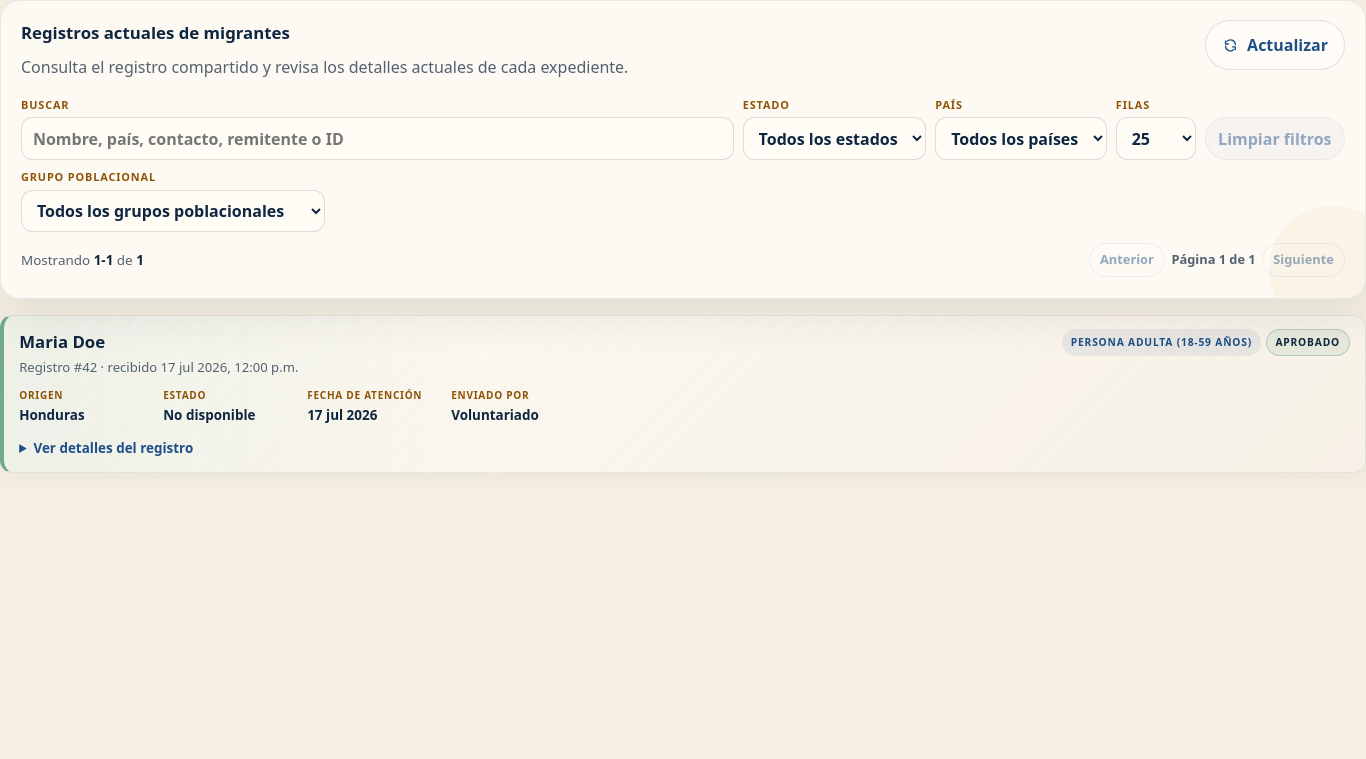
Test: MigrantRegistrationsPage › cancels the registry PDF challenge when the passkey prompt is dismissed
The width and height of the screenshot is (1366, 759).
Click the heading "Ver detalles del registro" at (106, 448), box x1=19 y1=438 x2=193 y2=458
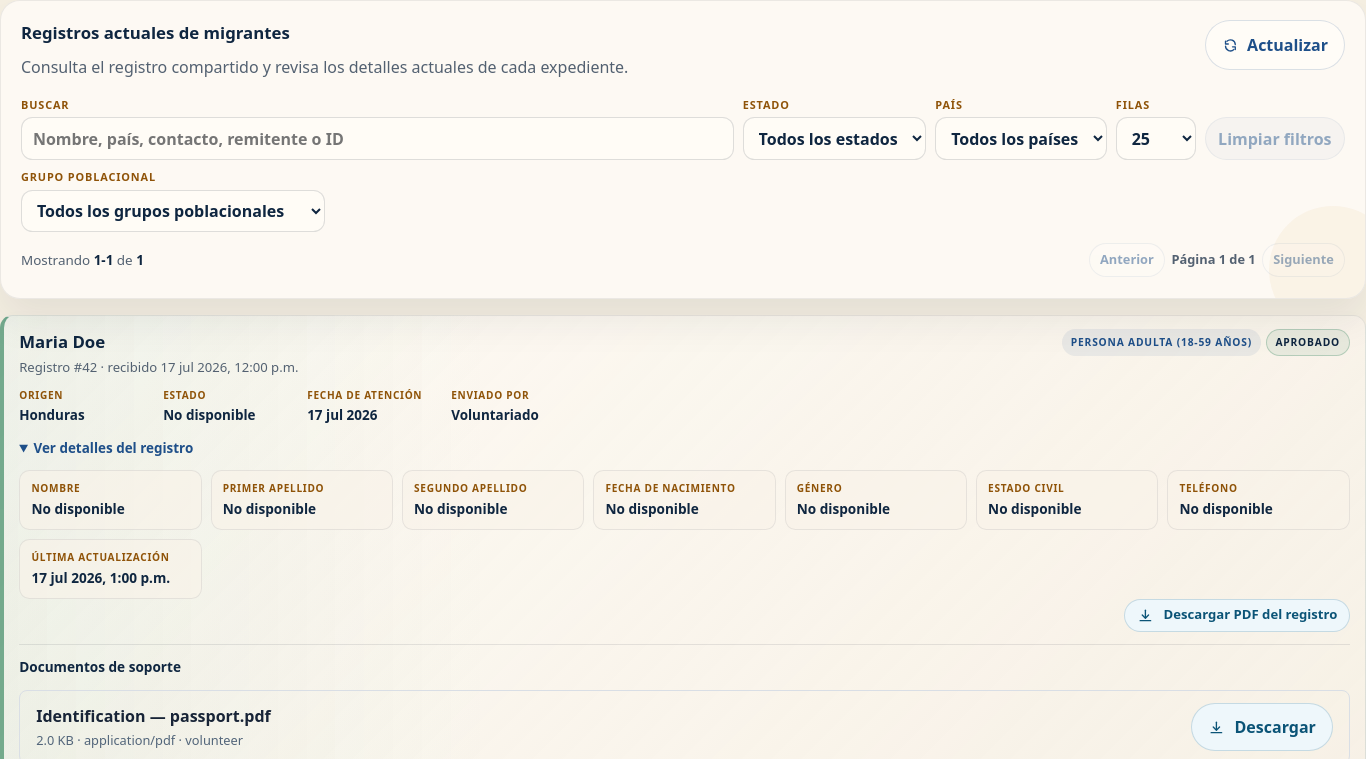
Click the button "Descargar PDF del registro" at (1237, 615), box x1=1124 y1=599 x2=1350 y2=632
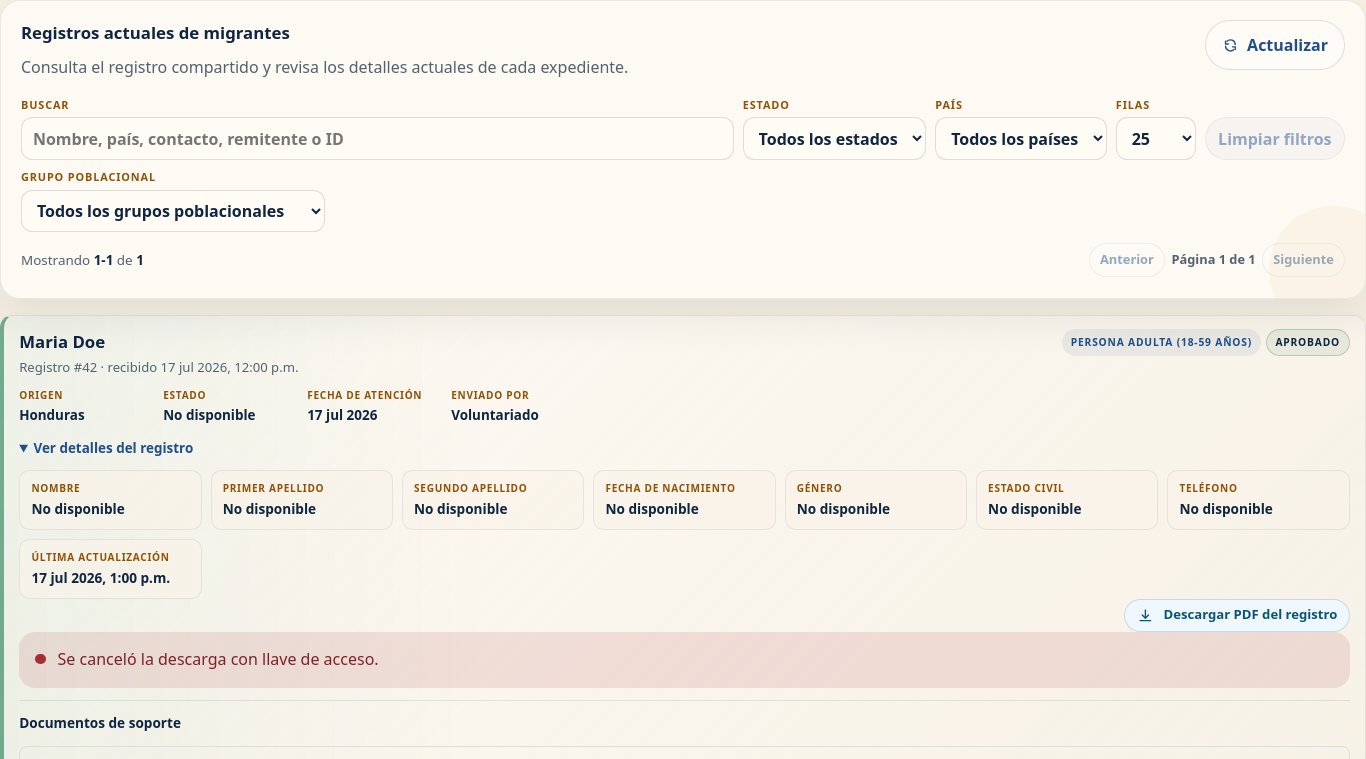
expect the text "Se canceló la descarga con llave de acceso." is shown: met, box x1=19 y1=632 x2=1350 y2=688
